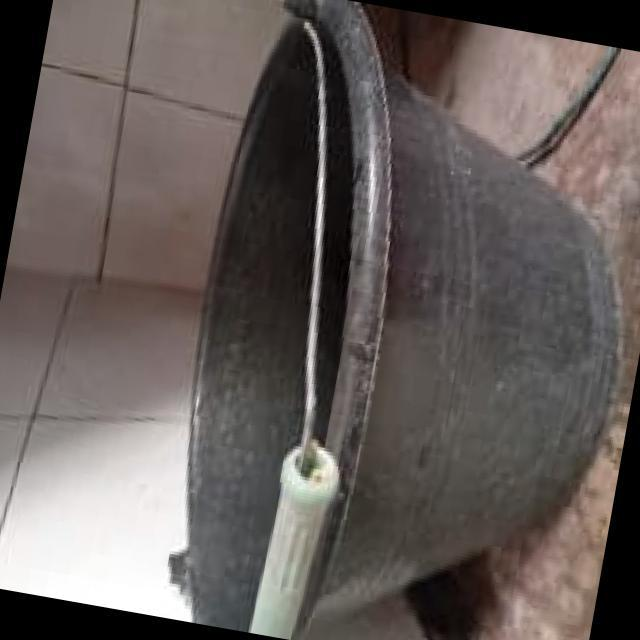HDPE Plastic: (152, 59, 618, 640)
